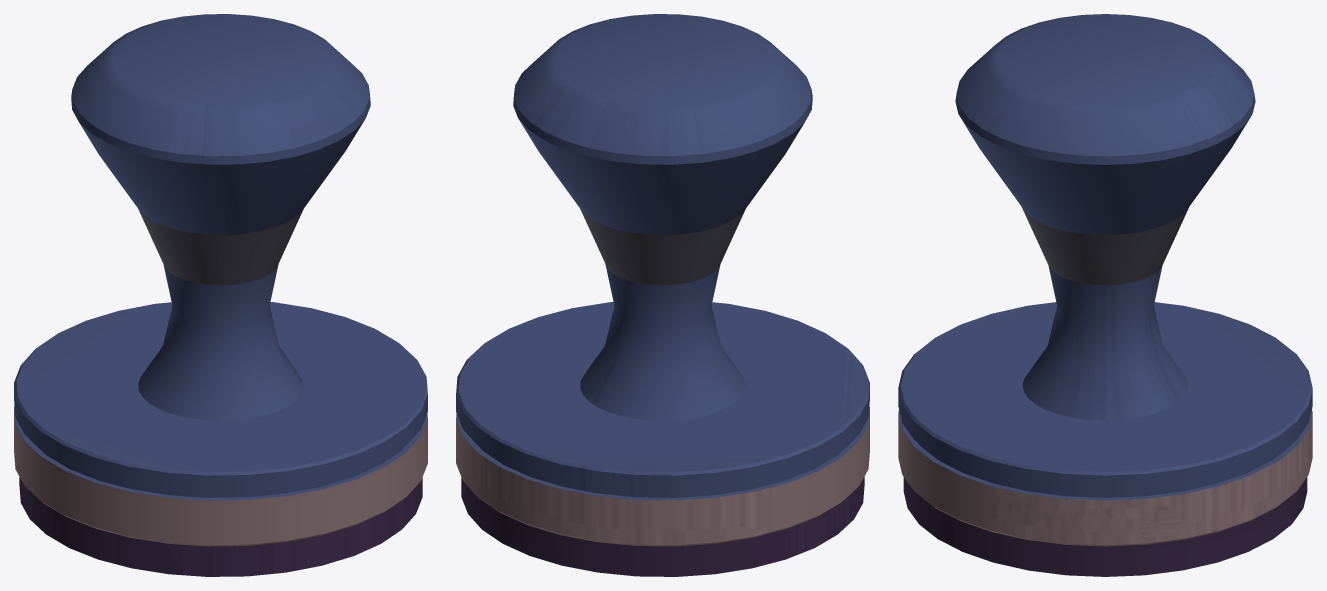
The model's file is StampT.fbx.
The picture shows the model from 3 angles, left to right: view 1: azimuth 30°, elevation 25°; view 2: azimuth 150°, elevation 25°; view 3: azimuth 270°, elevation 25°; orthographic projection.
Parts seen in each view (by area): view 1: Circle; view 2: Circle; view 3: Circle.
Part boxes in pixels (box(x1,y1,x2,y2)): Circle: box(14, 14, 427, 576); Circle: box(456, 14, 869, 576); Circle: box(898, 14, 1312, 576).
Size of the model in its own units: 271 by 312 by 271.
